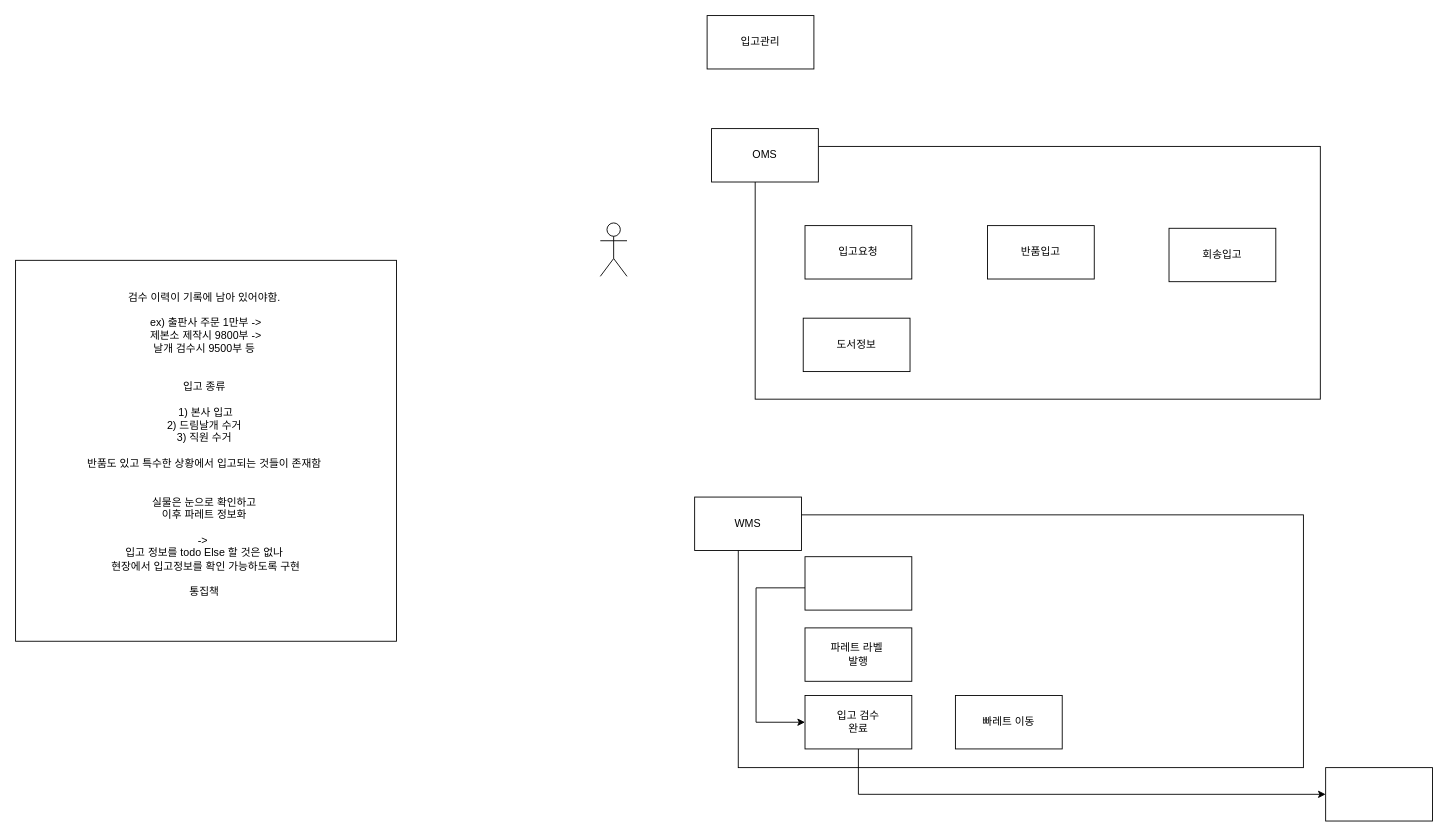
The diagram is 1448 pixels wide and 837 high, and some of its shapes have lost their labels. The centre of each missing label's shape, as x and y in pixels:
"Actor" goes at (613,249).
"입고예정" goes at (858,583).
"출판사에 정보 전달" goes at (1378,794).
